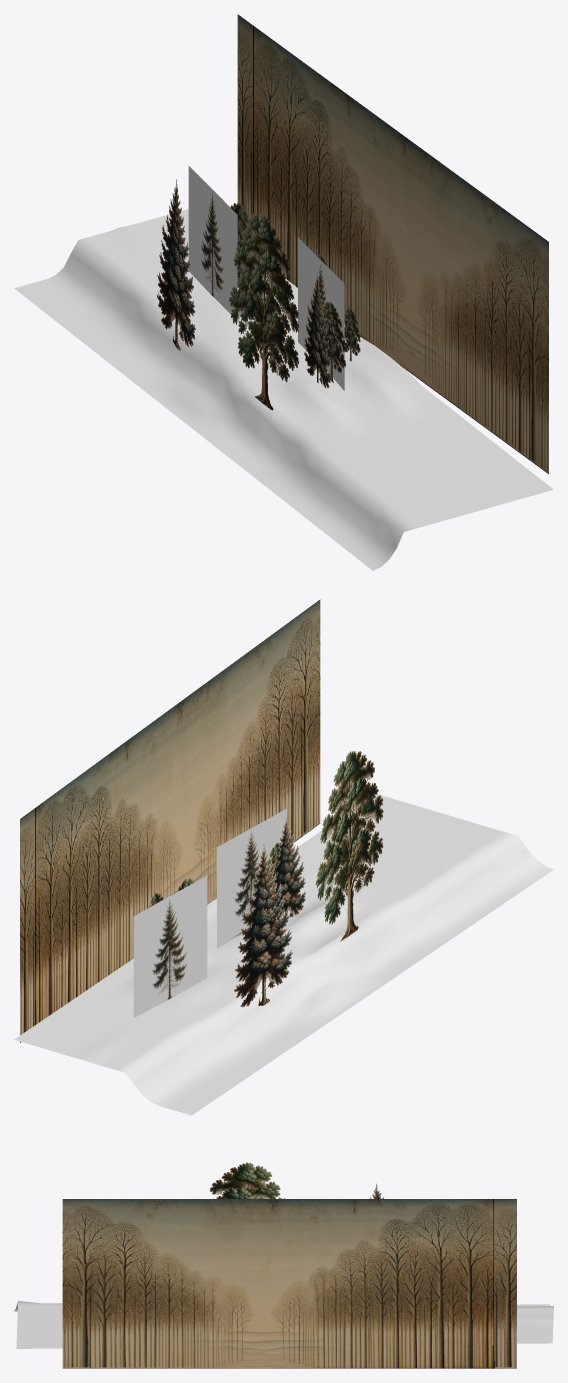
File: NextmuseumTest.fbx
The picture shows the model from 3 angles, top to bottom: view 1: azimuth 30°, elevation 25°; view 2: azimuth 150°, elevation 25°; view 3: azimuth 270°, elevation 25°; orthographic projection. The views are drawn at different scales.
Visible parts, largest first — view 1: Plane.002, Plane.005, Plane.006, Plane.007, Plane.008, Plane.004, Plane.003, Plane.010; view 2: Plane.002, Plane.005, Plane.007, Plane.006, Plane.008, Plane.004, Plane.003; view 3: Plane.002, Plane.005, Plane.006.
Boxes of the visible parts, <box> form: Plane.002: <box>237,14,548,473</box>; Plane.005: <box>14,209,553,570</box>; Plane.006: <box>229,212,299,410</box>; Plane.007: <box>188,166,237,320</box>; Plane.008: <box>156,179,195,350</box>; Plane.004: <box>298,237,344,390</box>; Plane.003: <box>304,272,330,388</box>; Plane.010: <box>322,301,345,382</box>; Plane.002: <box>20,599,320,1042</box>; Plane.005: <box>14,794,553,1115</box>; Plane.007: <box>133,876,207,1017</box>; Plane.006: <box>315,751,383,941</box>; Plane.008: <box>234,842,292,1007</box>; Plane.004: <box>217,808,287,948</box>; Plane.003: <box>271,816,305,923</box>; Plane.002: <box>62,1199,516,1368</box>; Plane.005: <box>14,1301,553,1348</box>; Plane.006: <box>209,1162,284,1198</box>.
Size of the model in its own units: 399 by 462 by 1222.
